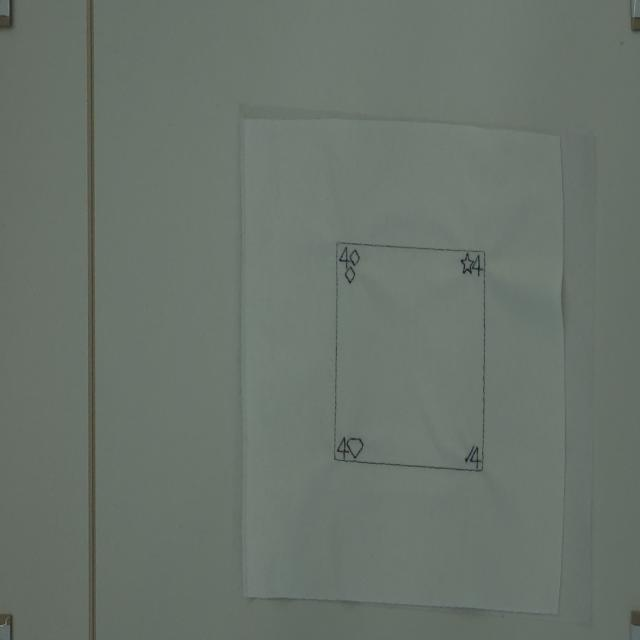4 -: (336, 436, 351, 462), (469, 442, 482, 471), (339, 244, 352, 270), (472, 256, 483, 278)
